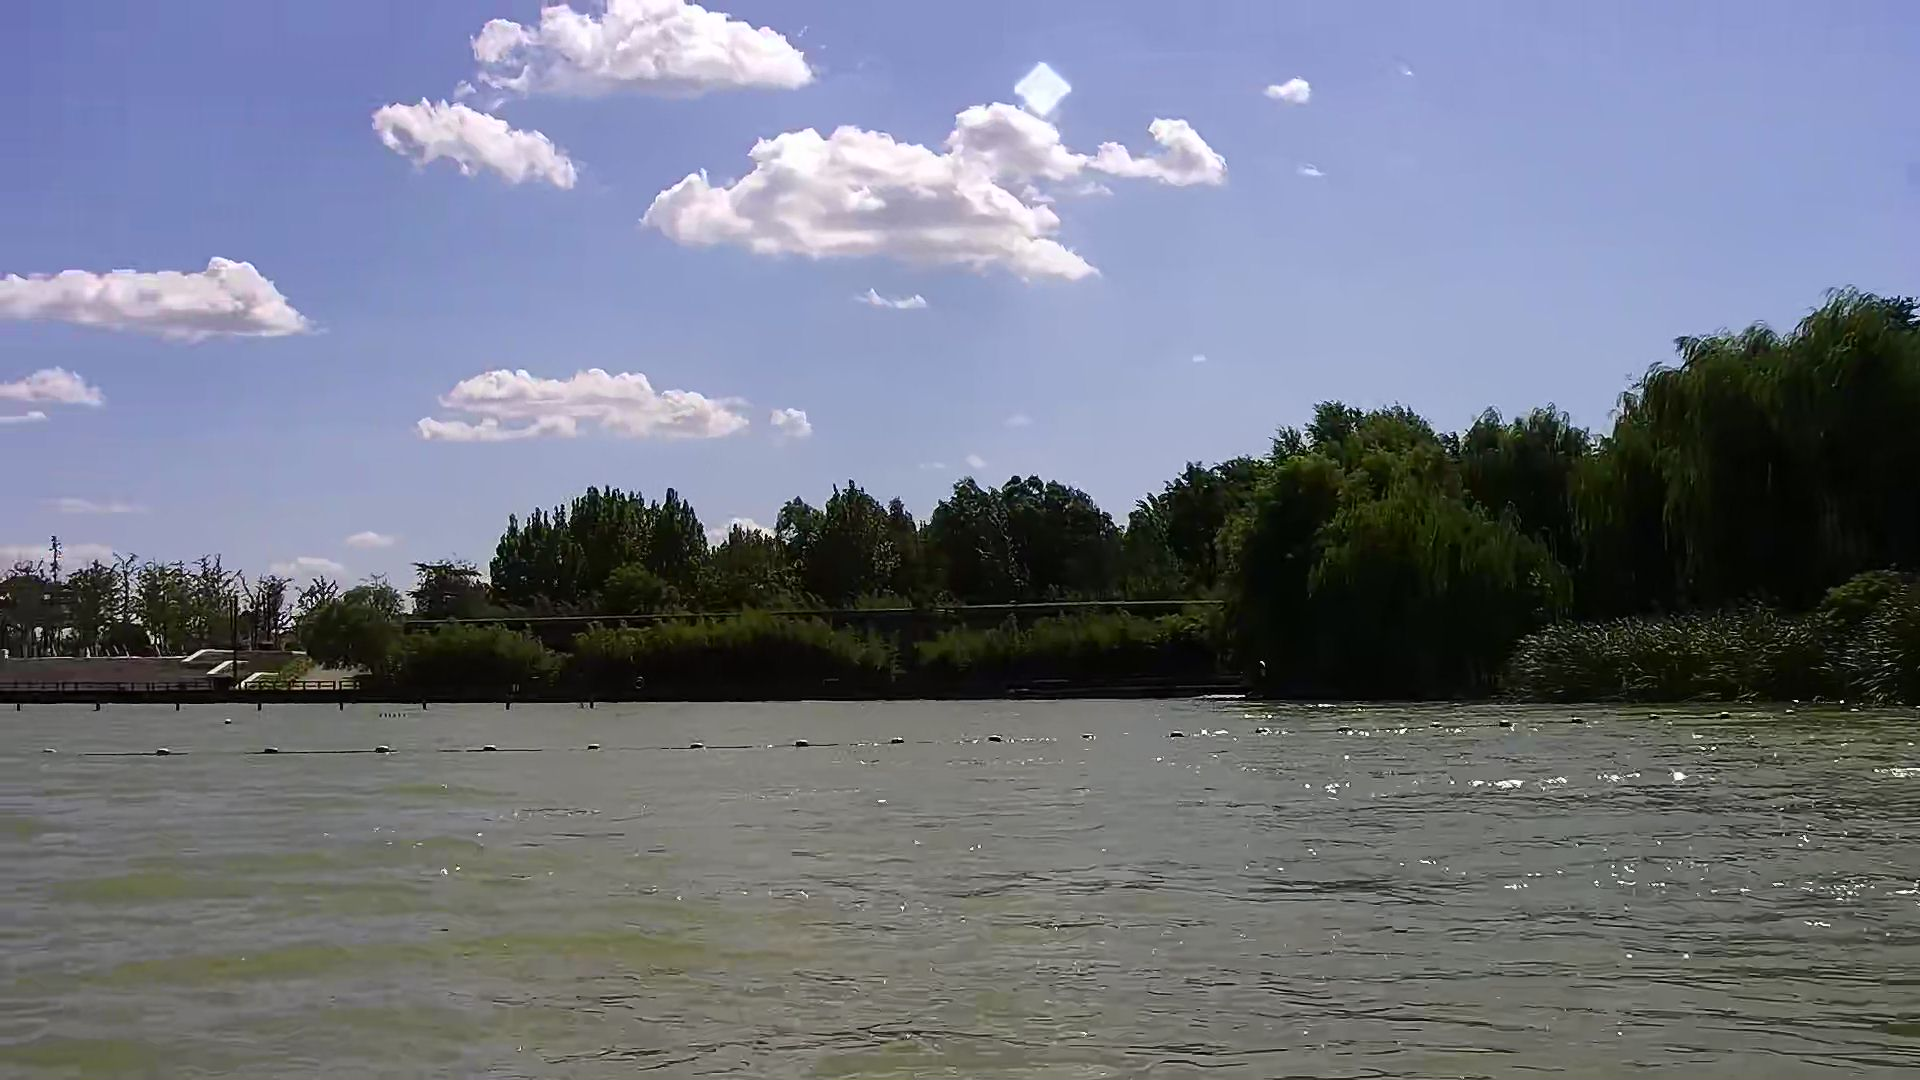ball: (880, 727, 913, 752), (364, 736, 398, 760), (153, 736, 175, 764), (578, 735, 607, 756), (978, 727, 1009, 745), (261, 738, 286, 760), (789, 732, 815, 750), (479, 738, 502, 758)
harbor: (1, 653, 380, 705)
